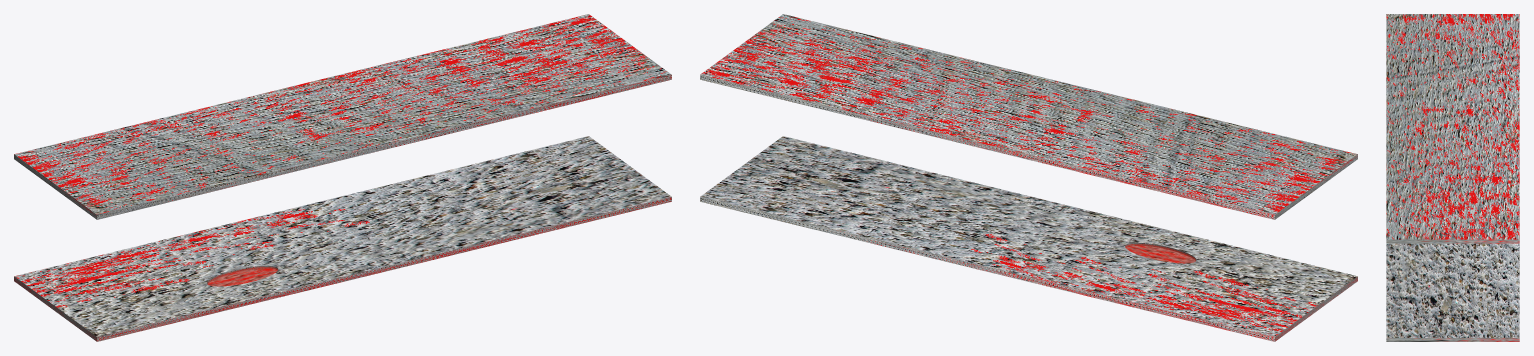
The model's file is gang_comb.glb.
3 renders of one model, left to right at view 1: azimuth 30°, elevation 25°; view 2: azimuth 150°, elevation 25°; view 3: azimuth 270°, elevation 25°, orthographic. The views are drawn at different scales.
Parts seen in each view (by area): view 1: Floor, Ceiling, Blood; view 2: Floor, Ceiling, Blood; view 3: Ceiling, Floor.
Boxes of the visible parts, left/top/right/bottom form: Floor: left=14, top=136, right=671, bottom=341; Ceiling: left=14, top=14, right=671, bottom=219; Blood: left=207, top=267, right=277, bottom=286; Floor: left=700, top=136, right=1357, bottom=341; Ceiling: left=700, top=14, right=1357, bottom=219; Blood: left=1125, top=244, right=1195, bottom=263; Ceiling: left=1386, top=14, right=1519, bottom=243; Floor: left=1386, top=243, right=1519, bottom=341.
Bounding box in the file's own units: 12 × 2.53 × 3.
Materials: 2 (1 with a texture image).
